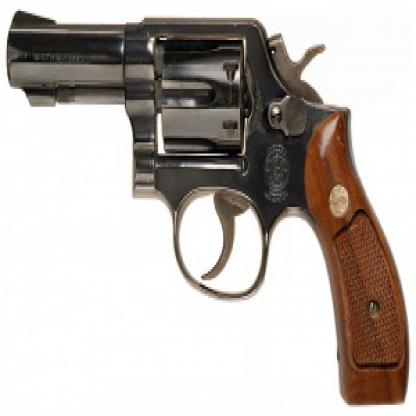Guns: (1, 4, 409, 405)
